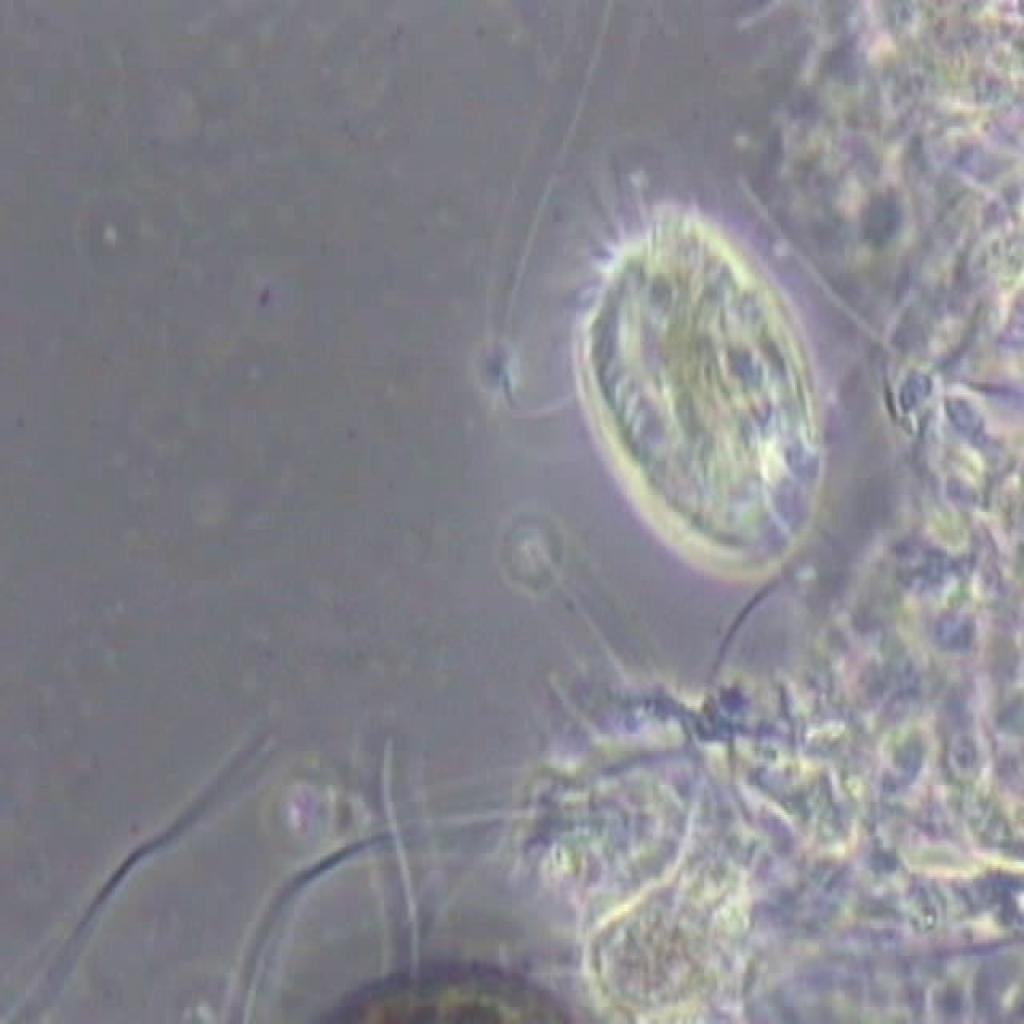Euplotes: (542, 166, 850, 616)
